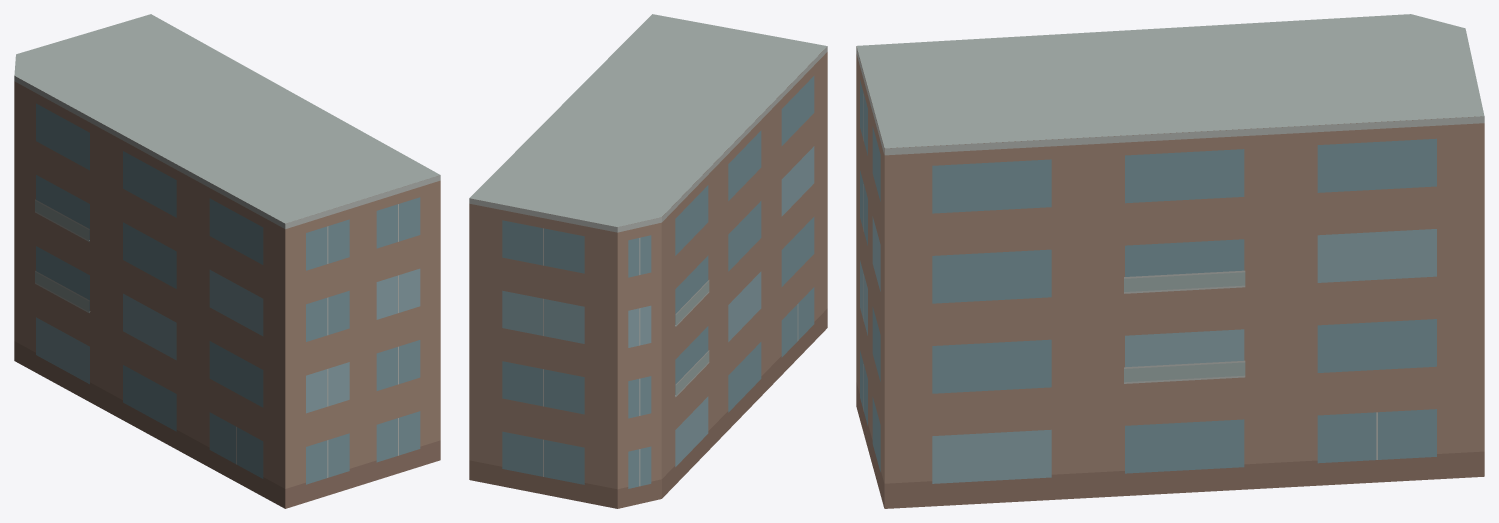
The model's file is survey-upis-32611695.glb.
The picture shows the model from 3 angles, left to right: view 1: azimuth 30°, elevation 25°; view 2: azimuth 150°, elevation 25°; view 3: azimuth 270°, elevation 25°; orthographic projection. The views are drawn at different scales.
Visible parts, largest first — view 1: survey-upis-32611695.tmp; view 2: survey-upis-32611695.tmp; view 3: survey-upis-32611695.tmp.
Boxes of the visible parts, x1,y1,x2,y2 form: survey-upis-32611695.tmp: [14, 14, 440, 508]; survey-upis-32611695.tmp: [469, 14, 827, 508]; survey-upis-32611695.tmp: [856, 14, 1484, 508].
Size of the model in its own units: 10.09 by 12.6 by 19.91.
